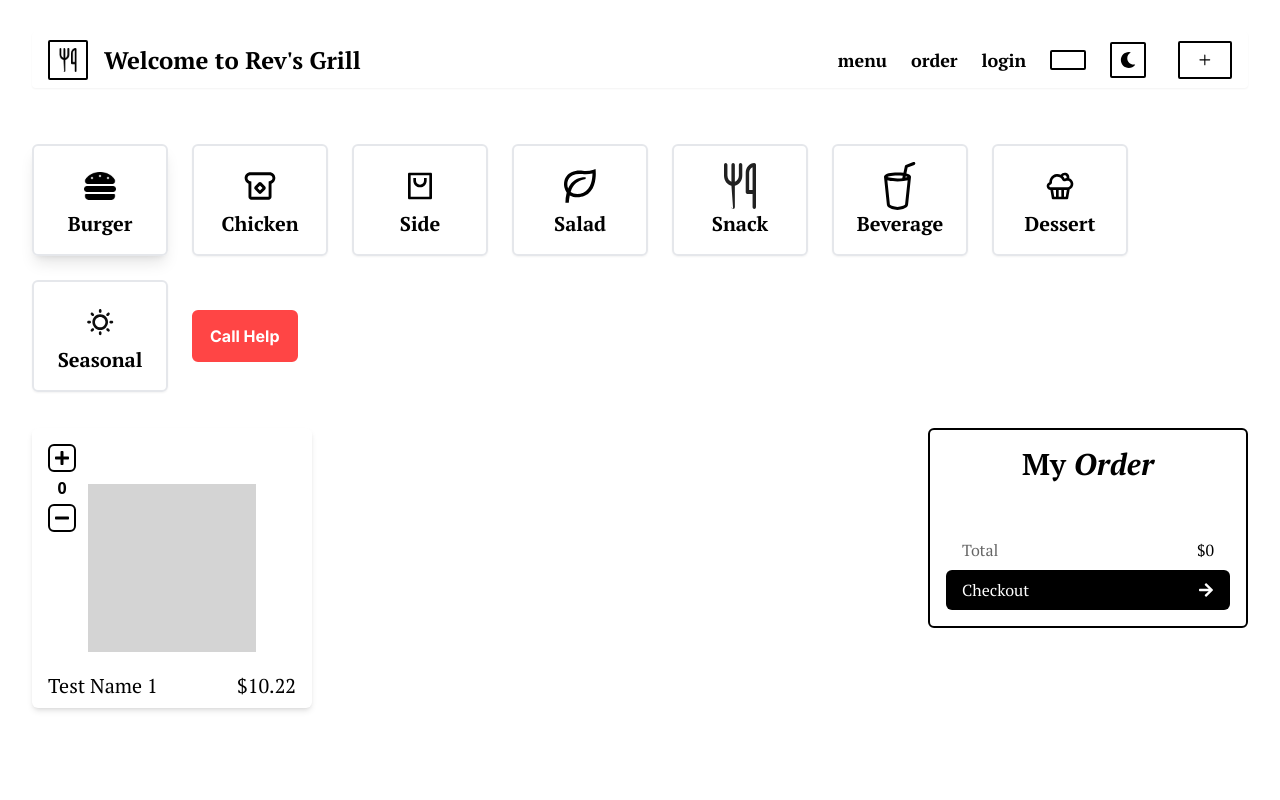
Test: Order Page Tests › clicking on another category should display items belonging to that category
Check: the text "Burger" is shown, box [68, 210, 132, 238]
Step 1. Click the button "Chicken" → point(260, 200), box [192, 144, 328, 256]
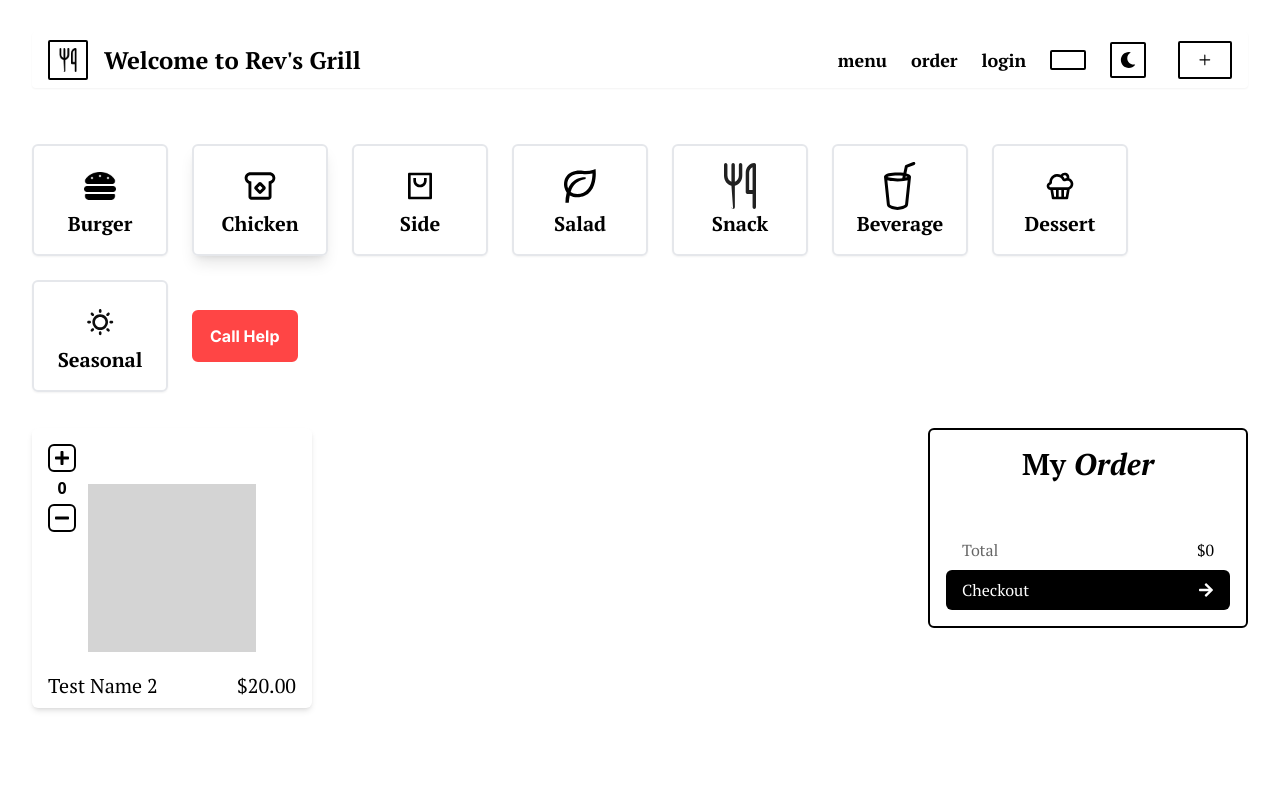
Check: the text "Test Name 2" is shown, box [48, 672, 158, 700]
Step 2. Click the button "Side" → point(420, 200), box [352, 144, 488, 256]
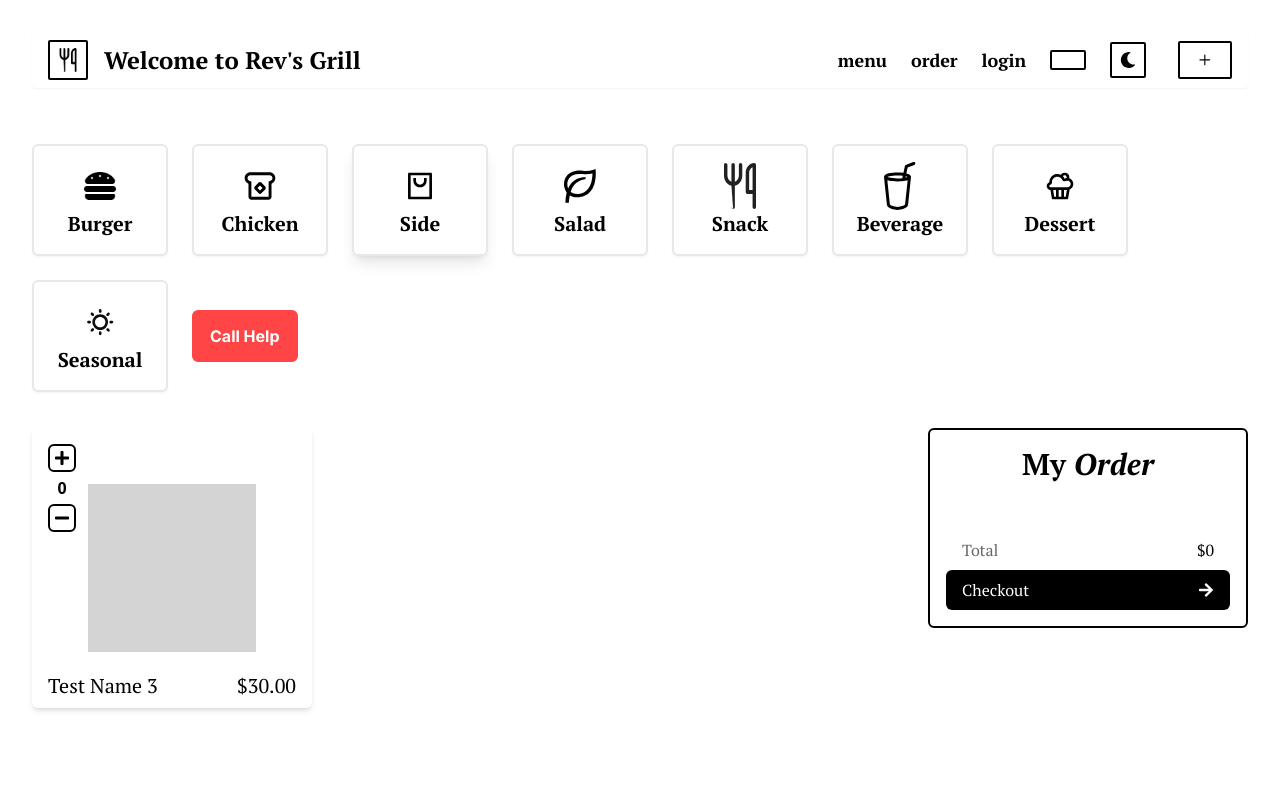
Check: the text "Test Name 3" is shown, box [48, 672, 158, 700]
